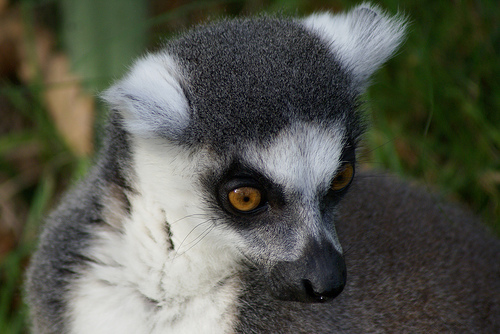cat: (18, 7, 499, 333)
